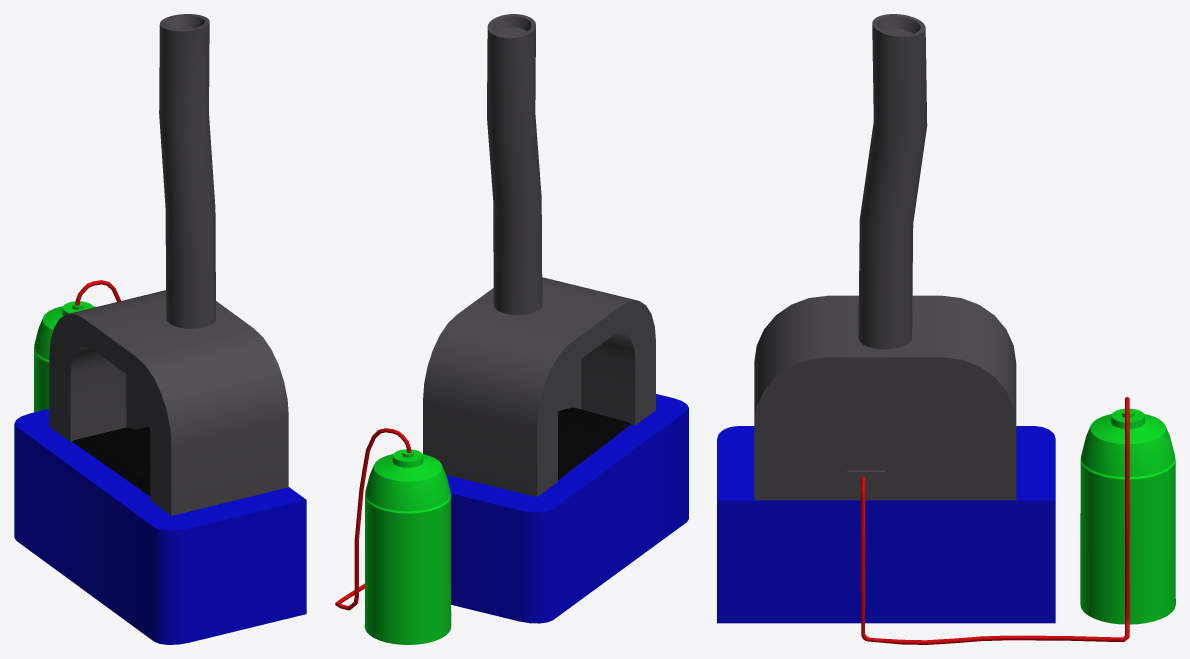
The model's file is horno.fbx.
3 views of the same model, side by side, from view 1: azimuth 30°, elevation 25°; view 2: azimuth 150°, elevation 25°; view 3: azimuth 270°, elevation 25° (orthographic). The views are drawn at different scales.
Parts seen in each view (by area): view 1: Cube.003; view 2: Cube.003; view 3: Cube.003.
Part boxes in pixels (x1=…): Cube.003: x1=14, y1=14, x2=306, y2=644; Cube.003: x1=335, y1=14, x2=688, y2=644; Cube.003: x1=717, y1=14, x2=1175, y2=644.
Bounding box in the file's own units: 294 × 810 × 580.
